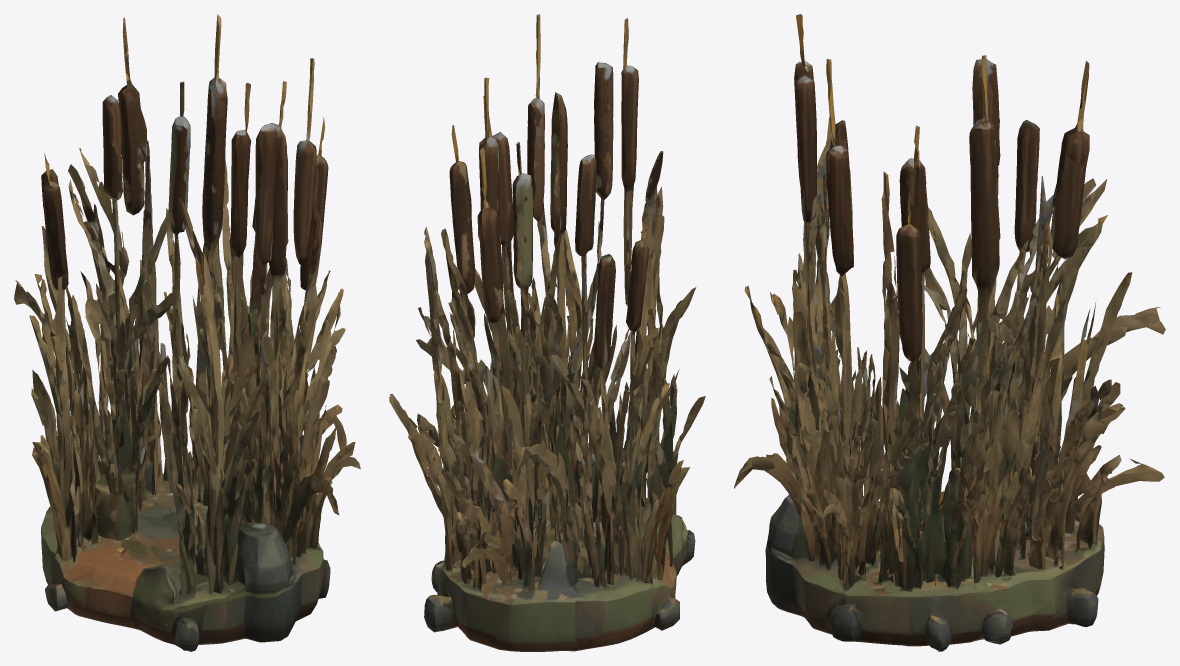
File: reed_clump.glb
3 views of the same model, side by side, from view 1: azimuth 30°, elevation 25°; view 2: azimuth 150°, elevation 25°; view 3: azimuth 270°, elevation 25° (orthographic). The views are drawn at different scales.
Parts seen in each view (by area): view 1: reed_clump; view 2: reed_clump; view 3: reed_clump.
Boxes of the visible parts, x1=… form: reed_clump: x1=14, y1=14, x2=360, y2=651; reed_clump: x1=389, y1=14, x2=705, y2=651; reed_clump: x1=734, y1=14, x2=1165, y2=651.
Bounding box in the file's own units: 1.02 × 1.8 × 1.22.
Materials: 1 (1 with a texture image).
